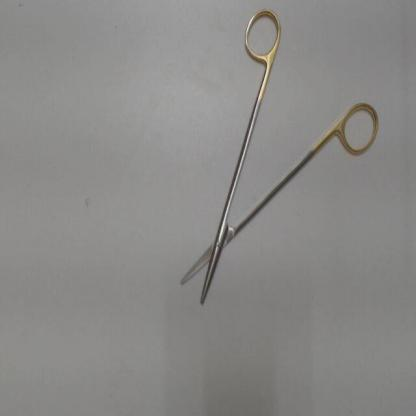7 Metzenbaum Scissors: (176, 5, 384, 311)
